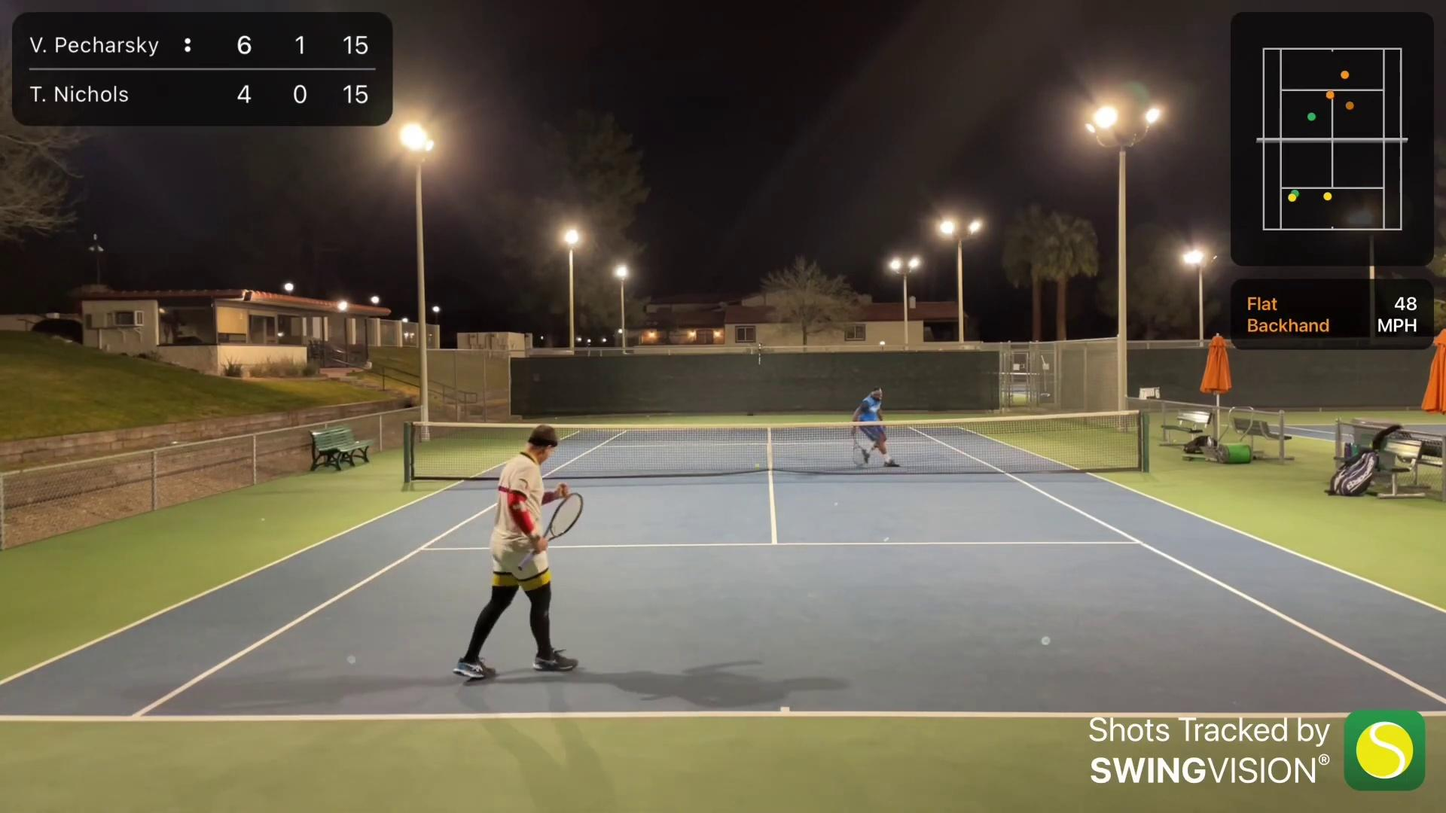ball: (751, 460, 763, 472)
